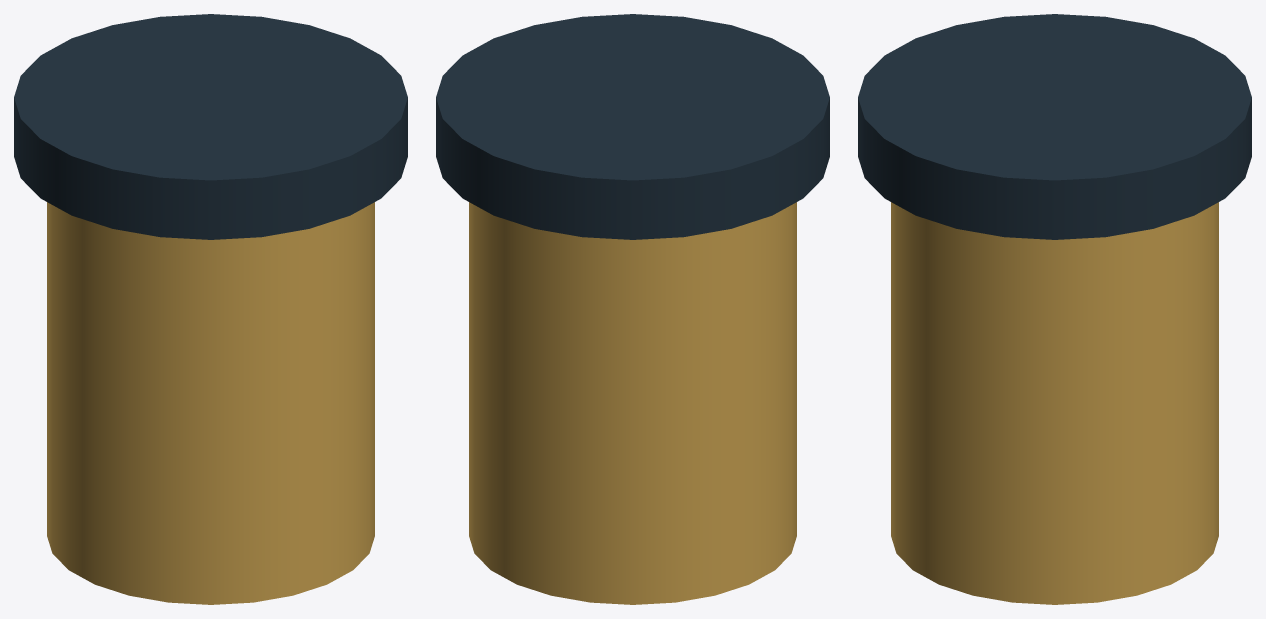
File: paper.glb
3 renders of one model, left to right at view 1: azimuth 30°, elevation 25°; view 2: azimuth 150°, elevation 25°; view 3: azimuth 270°, elevation 25°, orthographic.
Parts seen in each view (by area): view 1: Glue1ml, GlueLid; view 2: Glue1ml, GlueLid; view 3: Glue1ml, GlueLid.
Boxes of the visible parts, <box> form: Glue1ml: <box>47,202,374,604</box>; GlueLid: <box>14,14,407,239</box>; Glue1ml: <box>469,202,796,604</box>; GlueLid: <box>436,14,829,239</box>; Glue1ml: <box>891,202,1218,604</box>; GlueLid: <box>858,14,1251,239</box>.
Size of the model in its own units: 0.012 by 0.0147 by 0.012.
